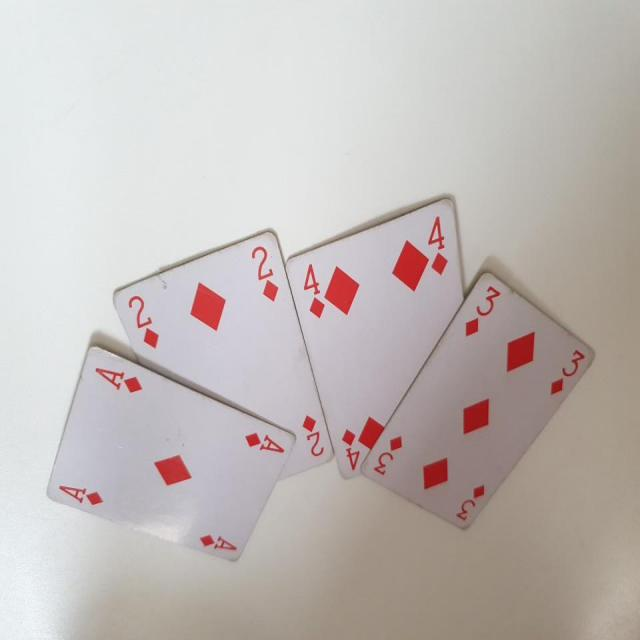2 Diamonds: (109, 229, 332, 474)
3 Diamonds: (350, 269, 596, 538)
4 Diamonds: (283, 194, 472, 483)
A Diamonds: (48, 335, 294, 568)
